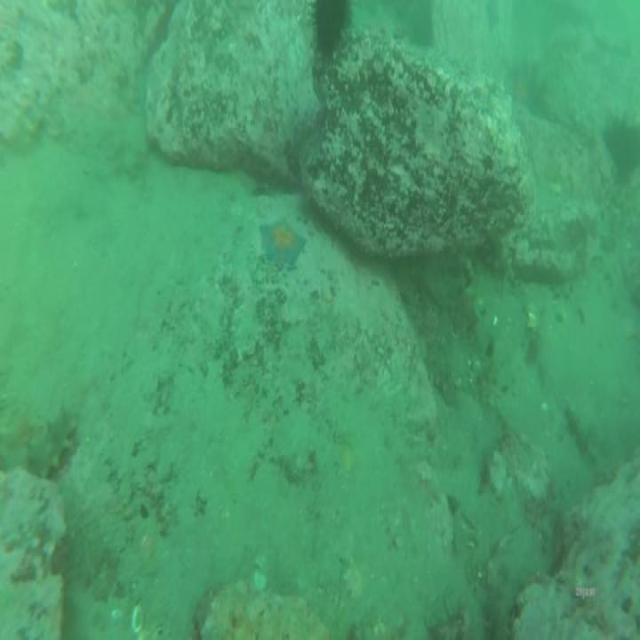echinus: (313, 2, 349, 60), (608, 123, 640, 177)
holothurian: (34, 413, 76, 474)
starfish: (259, 218, 305, 267), (508, 60, 538, 103)
